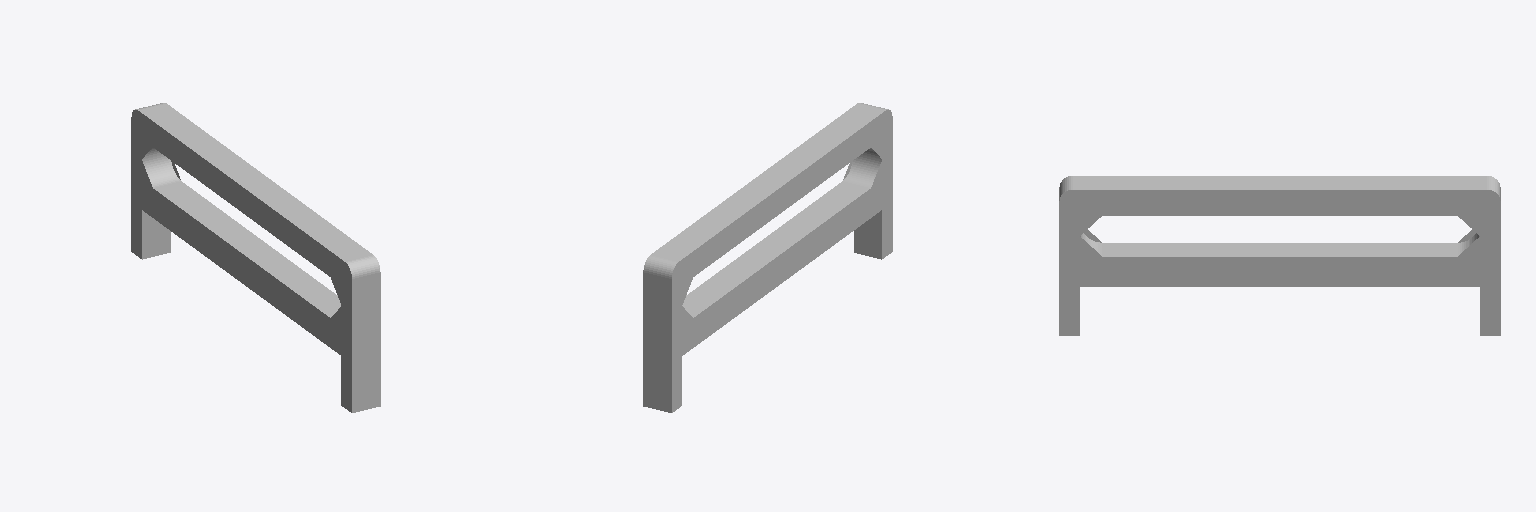
The model's file is Tr-RouleauRailD.obj.
3 views of the same model, side by side, from view 1: azimuth 30°, elevation 25°; view 2: azimuth 150°, elevation 25°; view 3: azimuth 270°, elevation 25° (orthographic).
Parts seen in each view (by area): view 1: Tr-RouleauRailD_Rail.001_Cube.000; view 2: Tr-RouleauRailD_Rail.001_Cube.000; view 3: Tr-RouleauRailD_Rail.001_Cube.000.
Part boxes in pixels (bbox=[...]): Tr-RouleauRailD_Rail.001_Cube.000: bbox=[131, 103, 380, 412]; Tr-RouleauRailD_Rail.001_Cube.000: bbox=[643, 103, 892, 412]; Tr-RouleauRailD_Rail.001_Cube.000: bbox=[1059, 176, 1500, 335].
Bounding box in the file's own units: 0.2995 × 1.47 × 4.